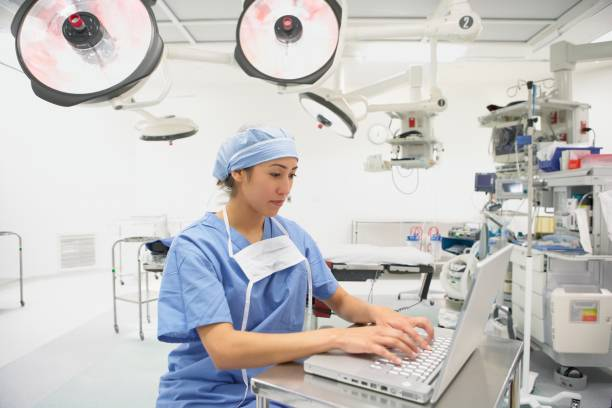computer: (303, 242, 516, 408)
electrosurgical_unit: (446, 221, 485, 242)
iv_pole: (505, 76, 581, 406)
medical_drawer: (509, 250, 545, 341)
medical_waste_container: (550, 284, 611, 356)
staff: (156, 122, 436, 408)
surgical_light: (10, 1, 163, 108), (232, 1, 346, 90), (298, 91, 362, 141), (137, 116, 201, 148)
table: (248, 337, 524, 408)
utility_cart: (110, 237, 173, 341), (1, 228, 24, 309)
